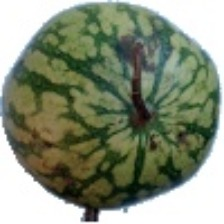watermelon: (10, 51, 197, 199)
